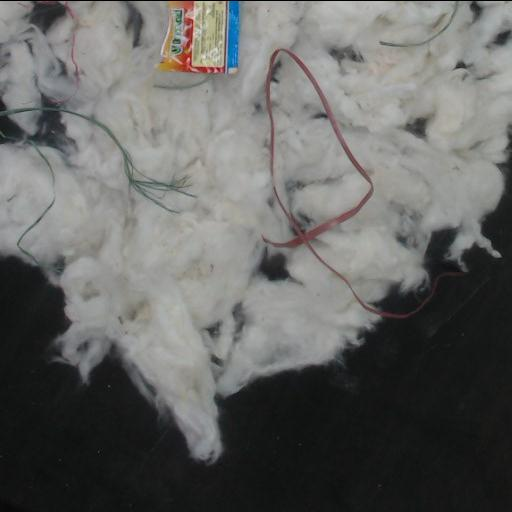conveyor belt: (0, 160, 511, 512), (0, 91, 73, 155), (427, 231, 458, 272), (31, 2, 64, 33), (379, 291, 422, 310), (259, 255, 287, 279), (128, 5, 141, 43)
cotton: (0, 1, 511, 462)
packet: (156, 1, 239, 72)
thread: (263, 48, 410, 316), (0, 106, 195, 212), (16, 139, 55, 264), (70, 31, 79, 85), (64, 1, 78, 29)
